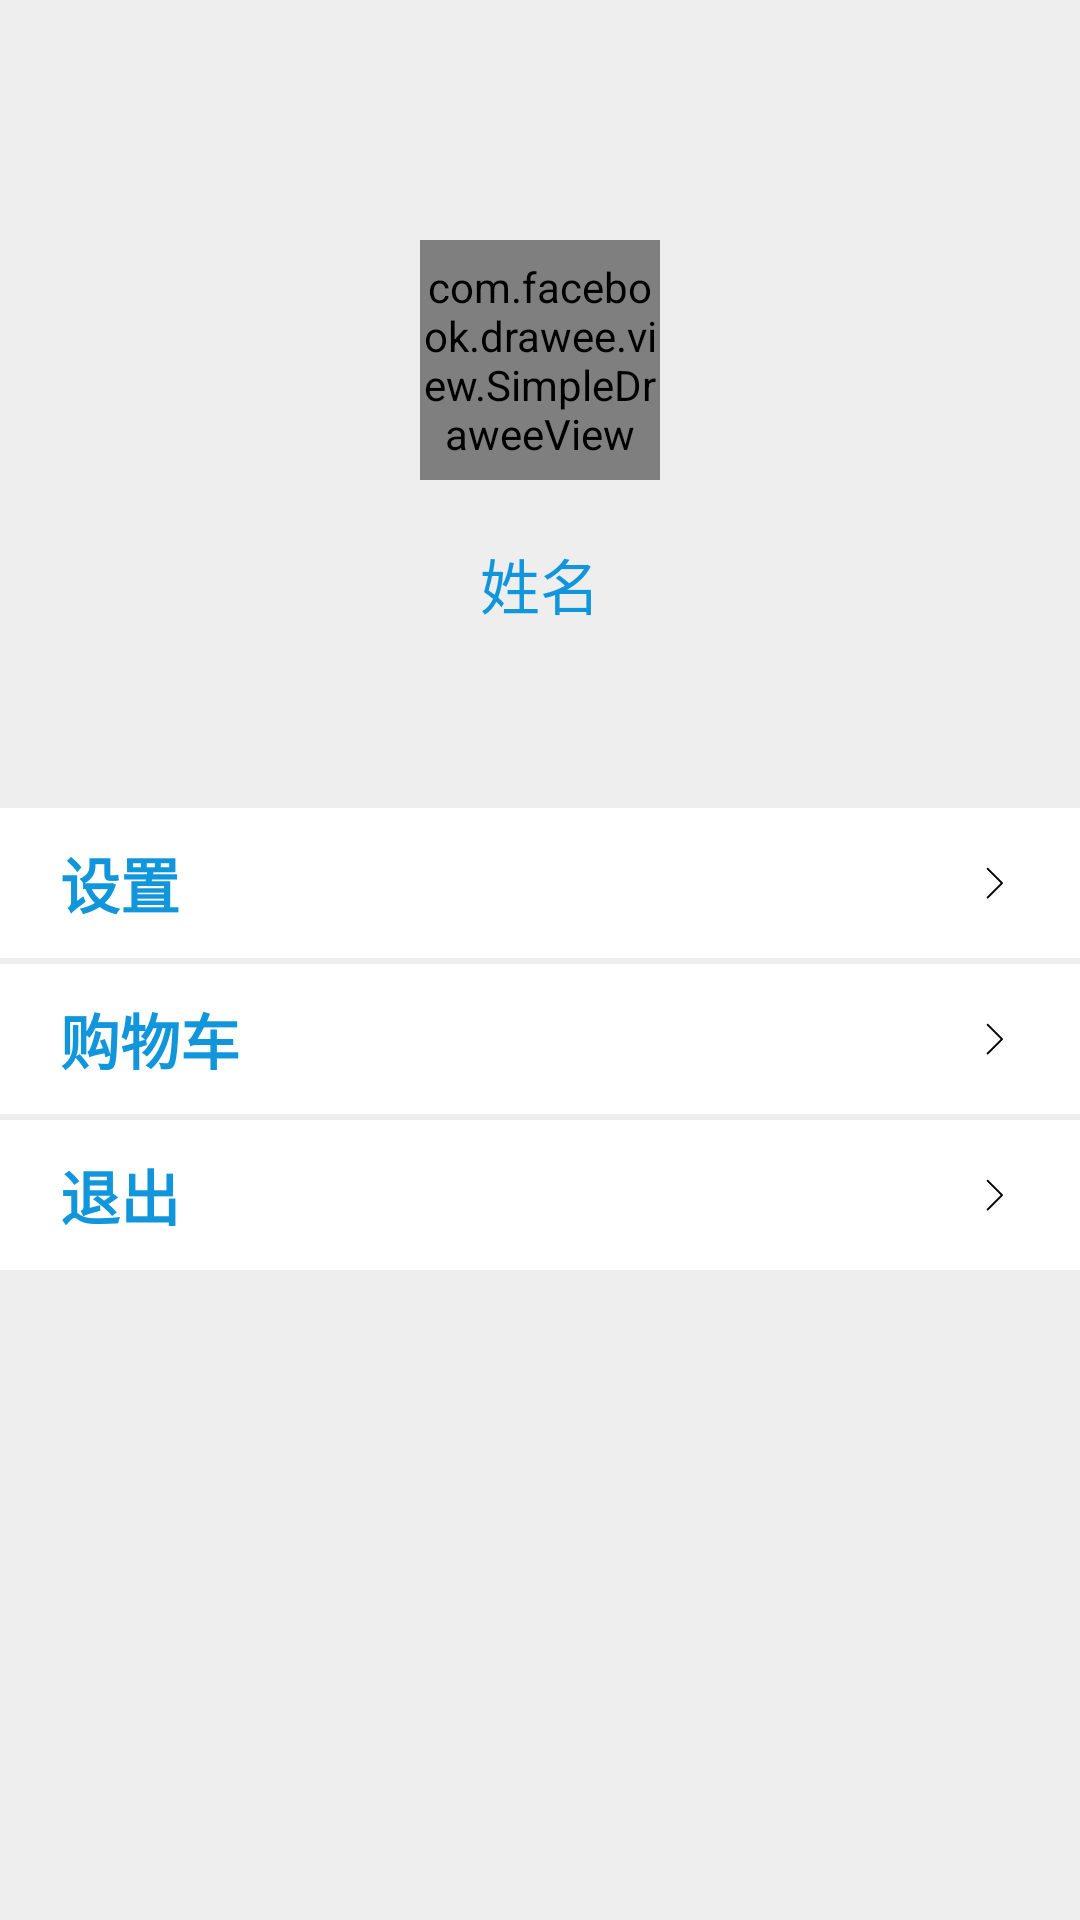

Named icons in this screenshot (1080x1920) and their centers, (x,y):
arrow: (994,883), (994,1039), (994,1195)
